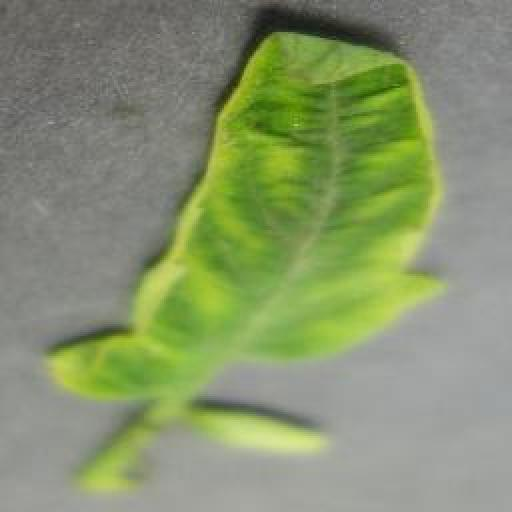Yellow Leaf Curl Virus: (42, 32, 442, 397)
